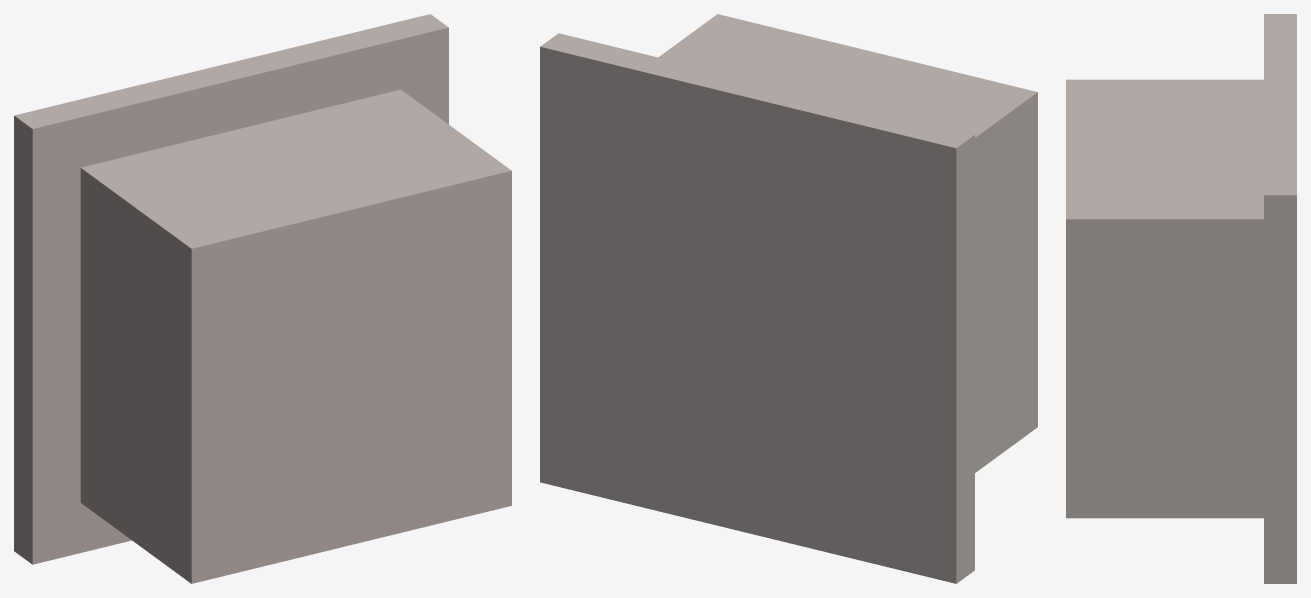
Rendered from SM_Fixture_GetabakiVentHood_01.gltf.
The picture shows the model from 3 angles, left to right: view 1: azimuth 30°, elevation 25°; view 2: azimuth 150°, elevation 25°; view 3: azimuth 270°, elevation 25°; orthographic projection. The views are drawn at different scales.
Visible parts, largest first — view 1: SM_Fixture_GetabakiVentHood_01; view 2: SM_Fixture_GetabakiVentHood_01; view 3: SM_Fixture_GetabakiVentHood_01.
Boxes of the visible parts, x1,y1,x2,y2 form: SM_Fixture_GetabakiVentHood_01: (14, 14, 511, 583); SM_Fixture_GetabakiVentHood_01: (540, 14, 1037, 583); SM_Fixture_GetabakiVentHood_01: (1066, 14, 1296, 583).
Size of the model in its own units: 0.26 by 0.26 by 0.14.
1 material, 1 textured.
